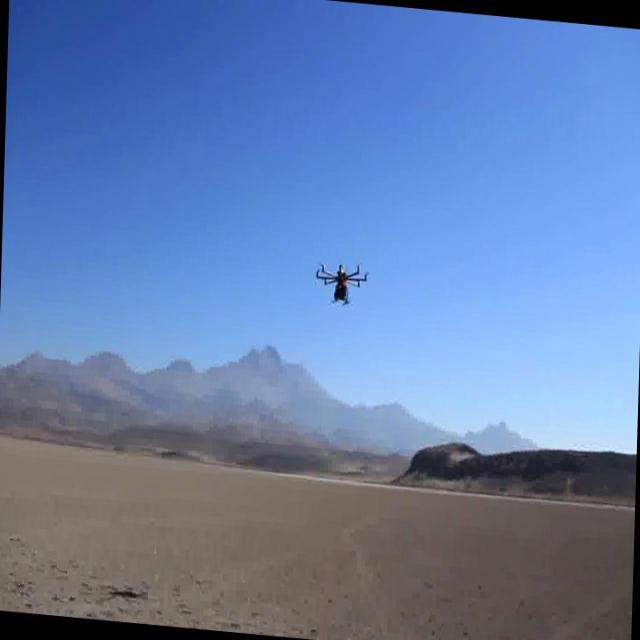drone: (314, 251, 370, 312)
